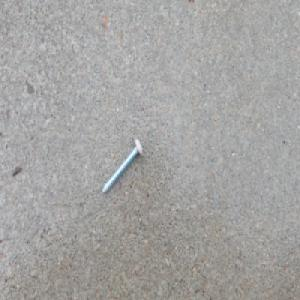Nail: (101, 137, 144, 197)
